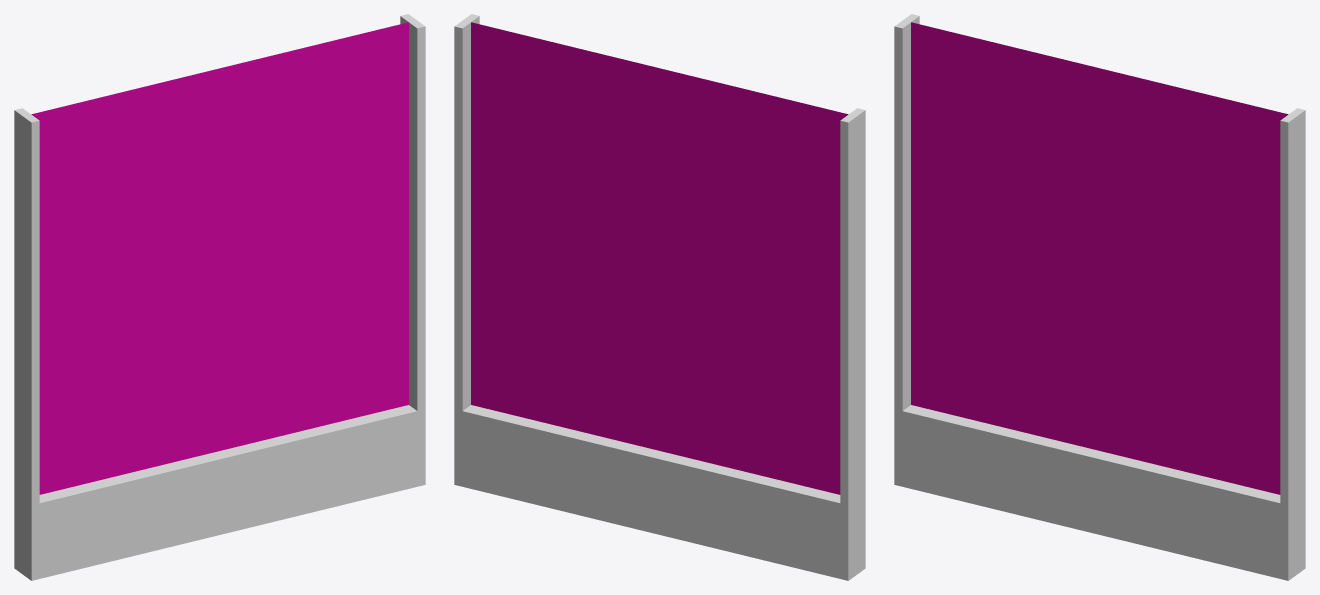
File: leger basis 2-3.fbx
3 renders of one model, left to right at view 1: azimuth 30°, elevation 25°; view 2: azimuth 150°, elevation 25°; view 3: azimuth 330°, elevation 25°, orthographic.
Parts seen in each view (by area): view 1: Cube; view 2: Cube; view 3: Cube.
Part boxes in pixels (x1,y1,x2,y2): Cube: (14, 14, 425, 580); Cube: (454, 14, 865, 580); Cube: (894, 14, 1305, 580).
Bounding box in the file's own units: 400 × 445 × 30.
